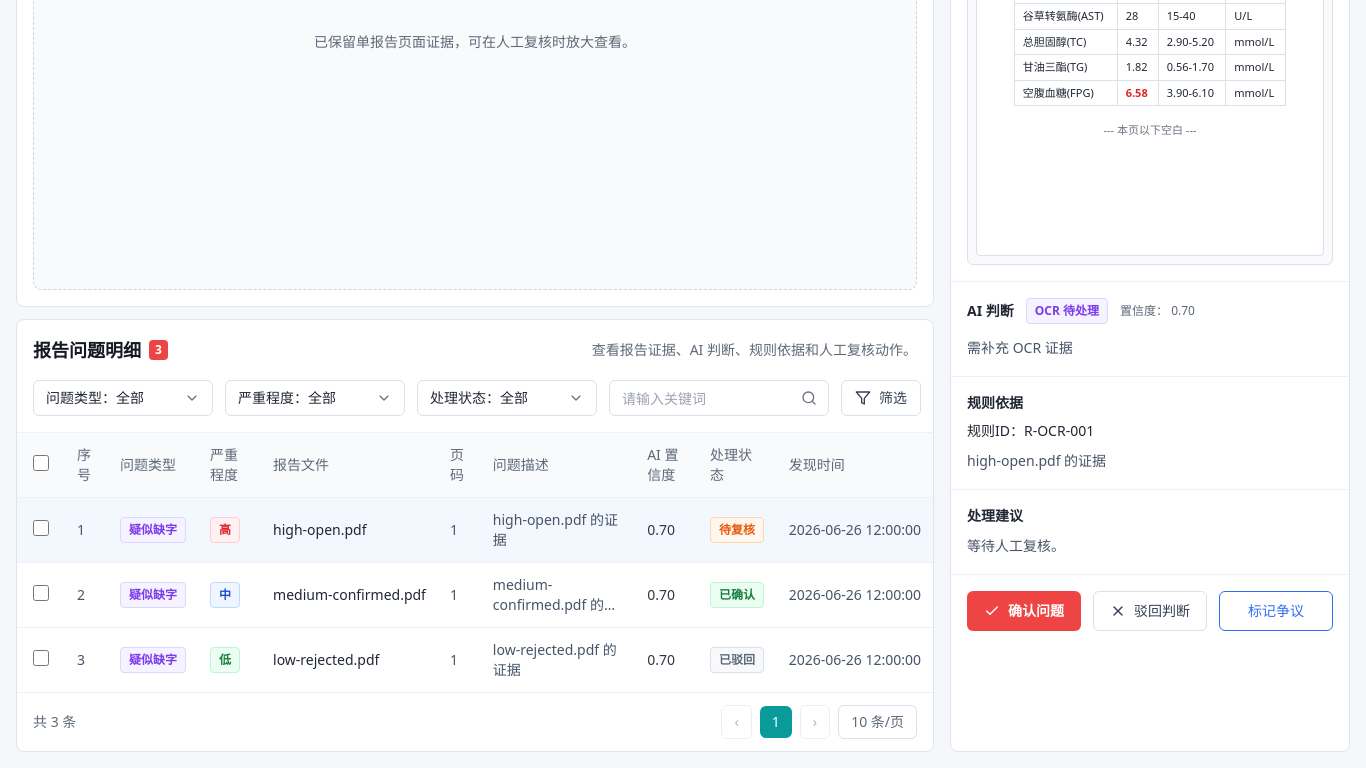
it: quality workspace interactions › shows disputed review decisions as marked disputed status
(page scrolled)
Click the button "标记争议".
click(1276, 611)  # box top-left (1219, 591), bottom-right (1333, 631)
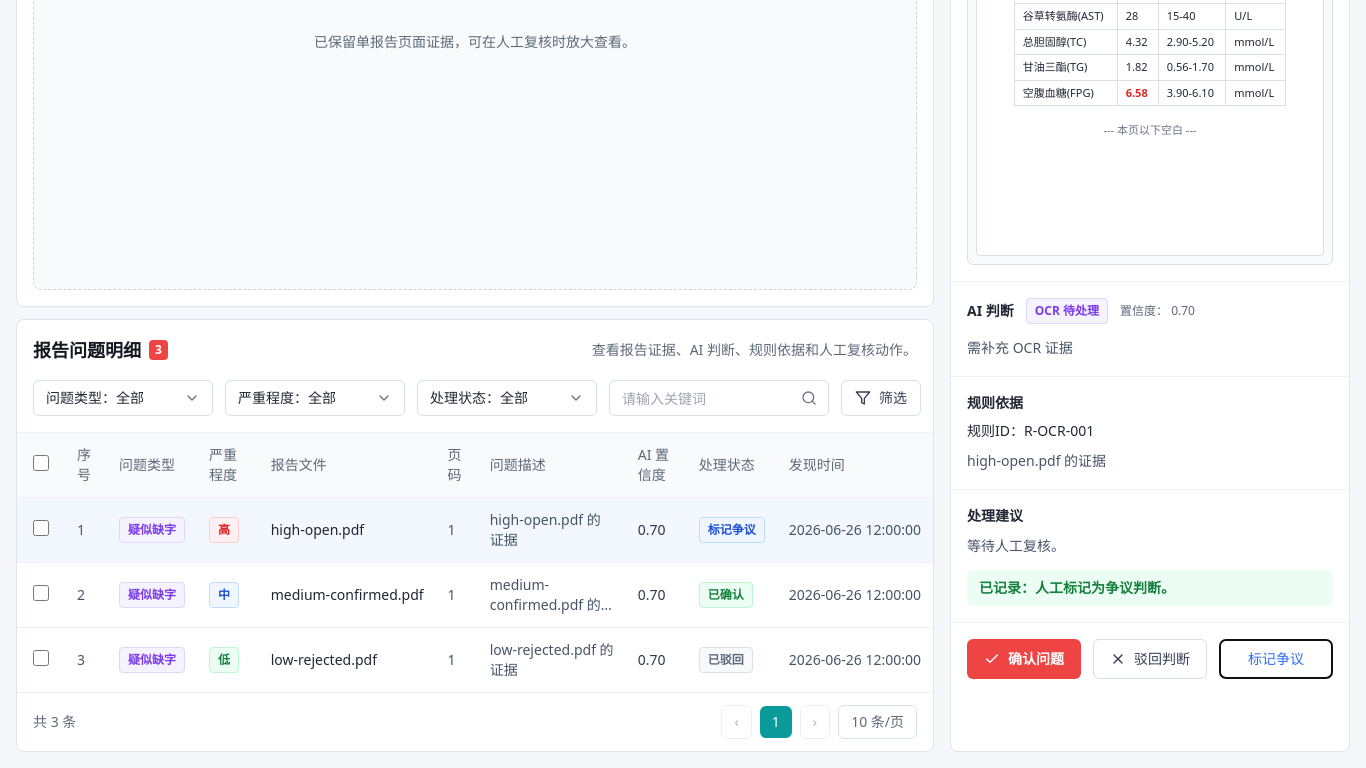
Expected: the 7th row is shown, top-left (17, 498), bottom-right (933, 563)
